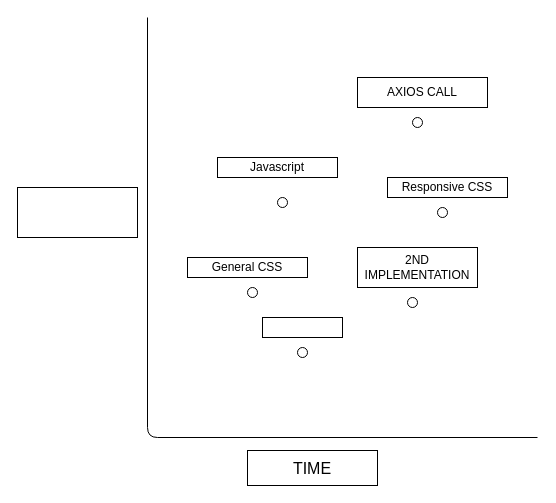
Image size: 556x503. Some labels were removed from this diagram. Each missing label, with the box of its shape:
HTML: (262, 316, 342, 338)
PRIORITY: (16, 186, 138, 238)
